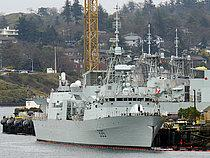MIL_Ship: (32, 49, 165, 149)
